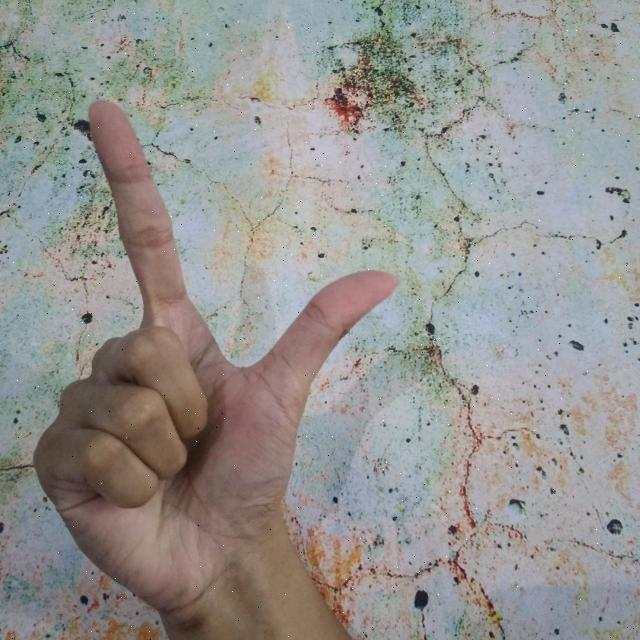L: (28, 96, 406, 640)
